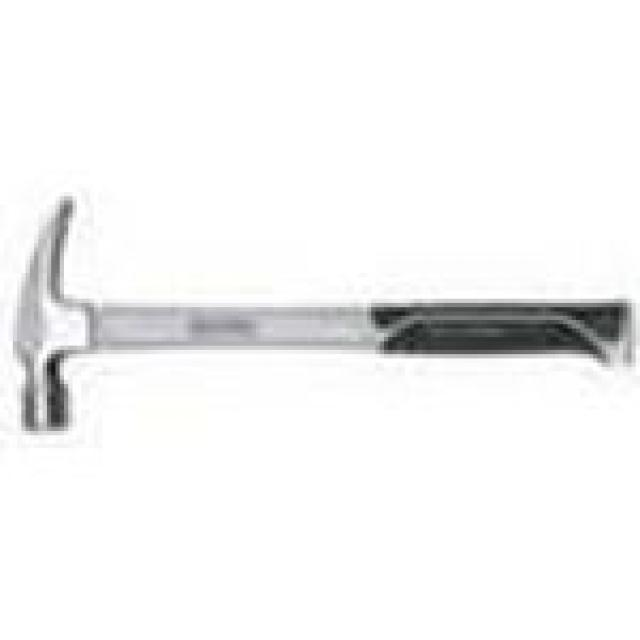hammer: (0, 184, 636, 452)
